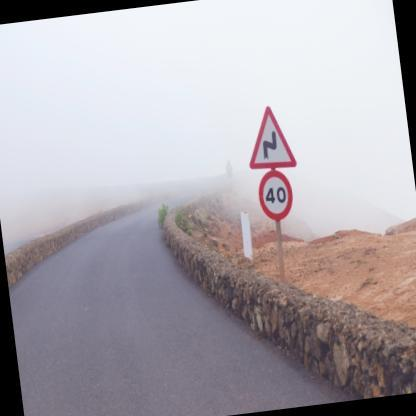road_sign: (249, 106, 297, 169), (259, 169, 292, 221)
